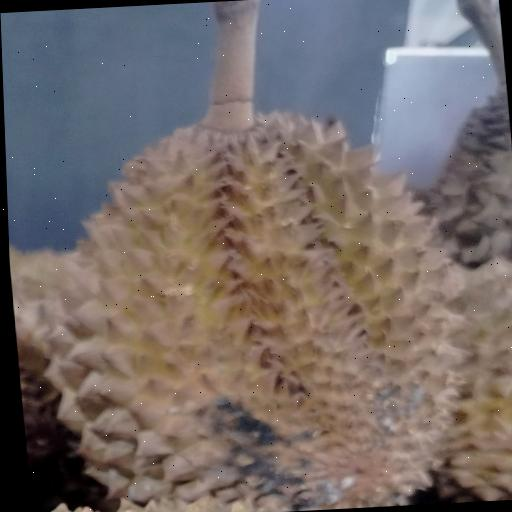mold: (2, 45, 512, 512)
